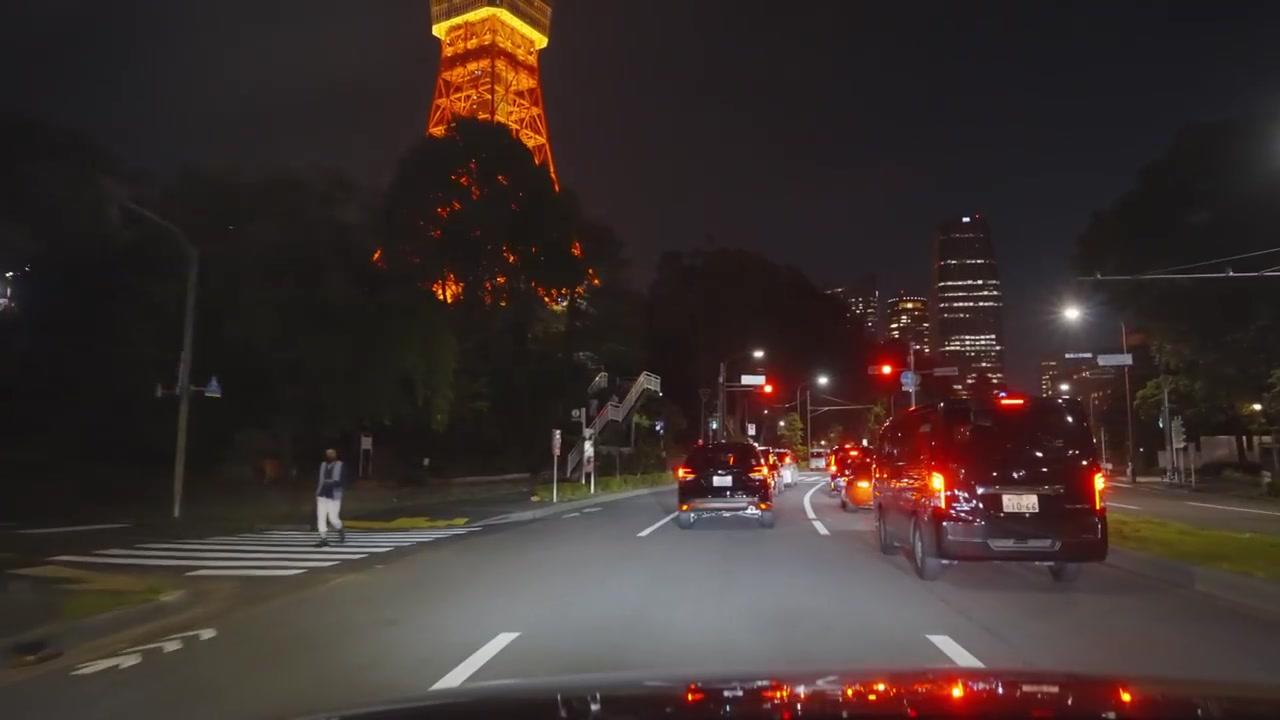car: (870, 395, 1110, 583), (674, 440, 776, 528), (841, 678, 910, 718), (839, 456, 875, 510), (770, 448, 798, 487)
person: (313, 447, 348, 544)
traffic light: (877, 363, 897, 390), (763, 380, 777, 398)
